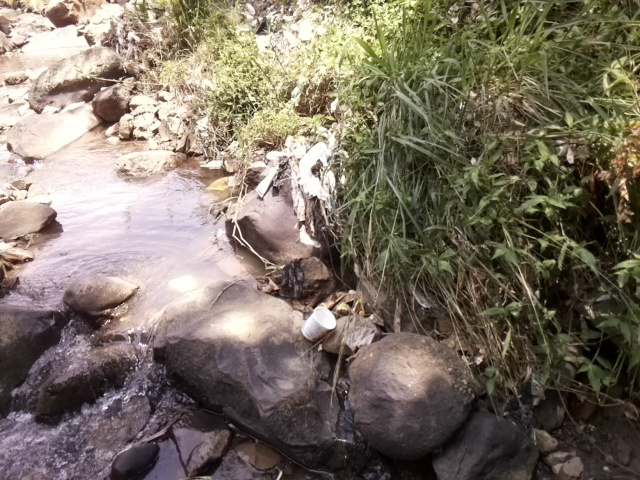Sampah_Styrofoam: (299, 303, 343, 346)
